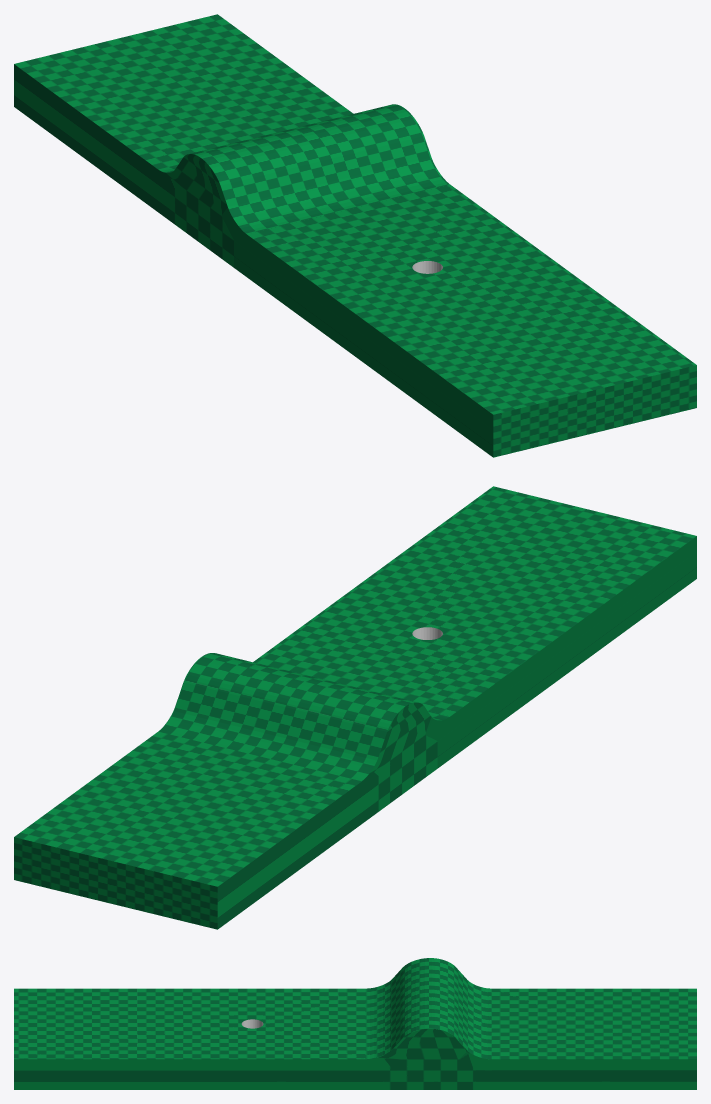
Rendered from first_hole.fbx.
3 views of the same model, one above another, from view 1: azimuth 30°, elevation 25°; view 2: azimuth 150°, elevation 25°; view 3: azimuth 270°, elevation 25° (orthographic). The views are drawn at different scales.
Visible parts, largest first — view 1: Cube; view 2: Cube; view 3: Cube.
Boxes of the visible parts, x1,y1,x2,y2 form: Cube: (14,14,696,457); Cube: (14,486,696,929); Cube: (14,958,696,1089).
Bounding box in the file's own units: 1559 × 627 × 6355.
